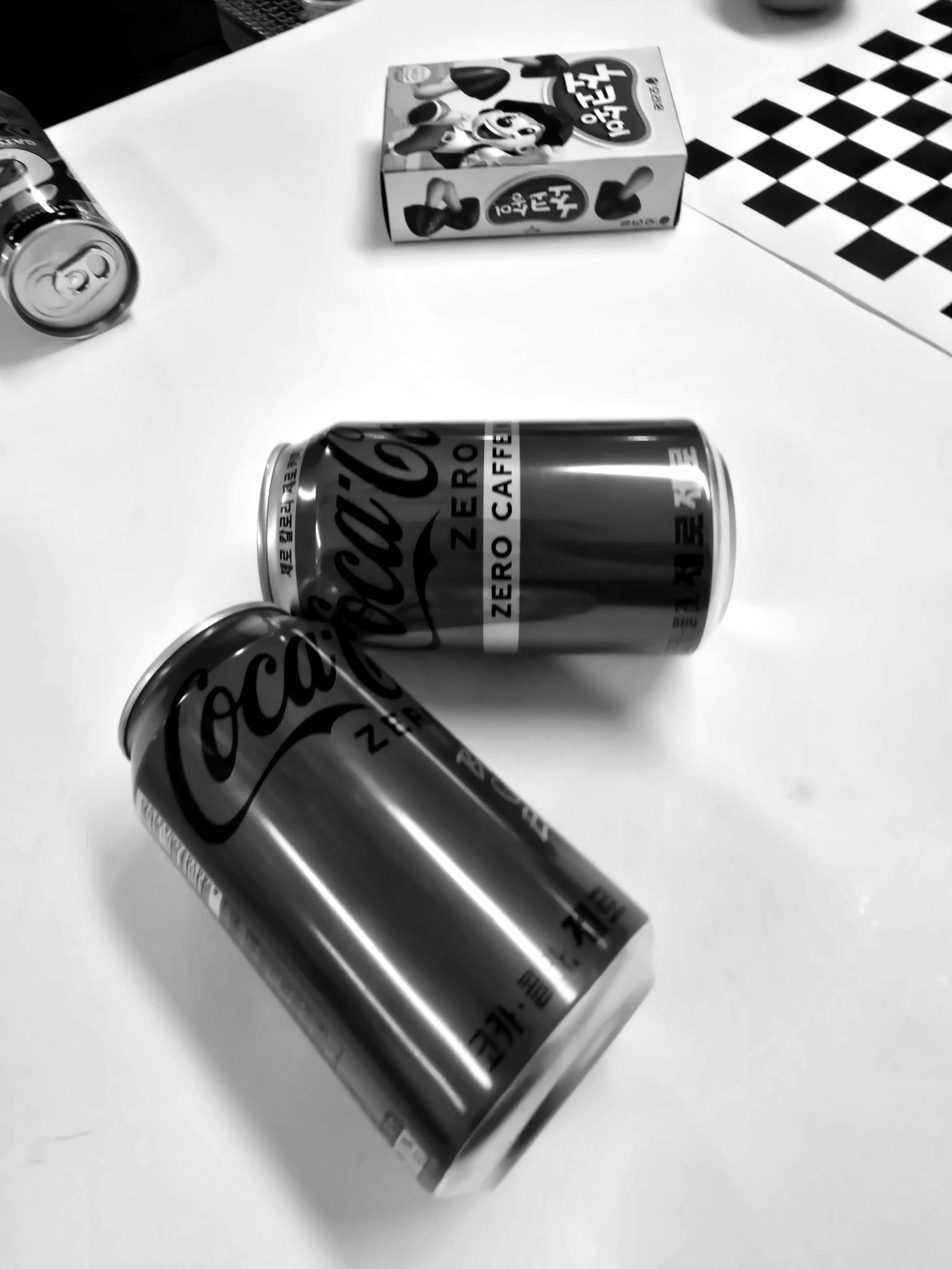can_coke_decaf: (259, 415, 733, 658)
can_coke_zero: (108, 605, 655, 1205)
